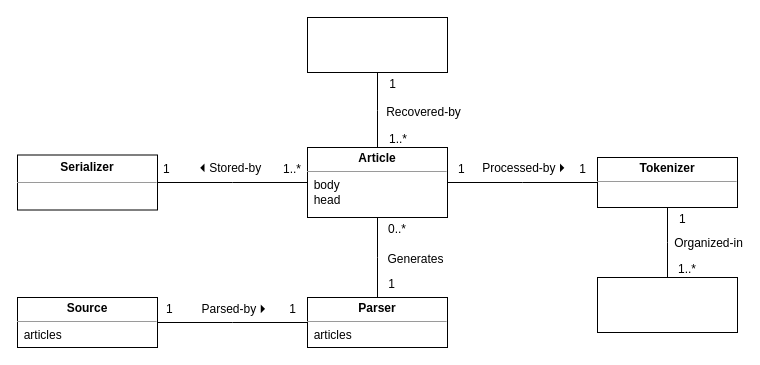
The diagram is 760 pixels wide and 365 high, and some of its shapes have lost their labels. The centre of each missing label's shape, as x and y in pixels:
"Deserializer" goes at [377,44].
"Storage tokens" goes at [667,304].
